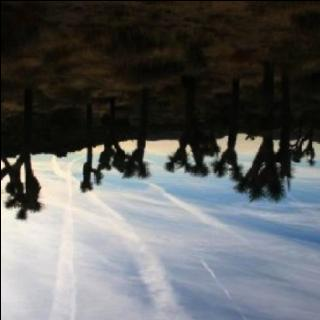Cirrostratus: (0, 171, 318, 320)
